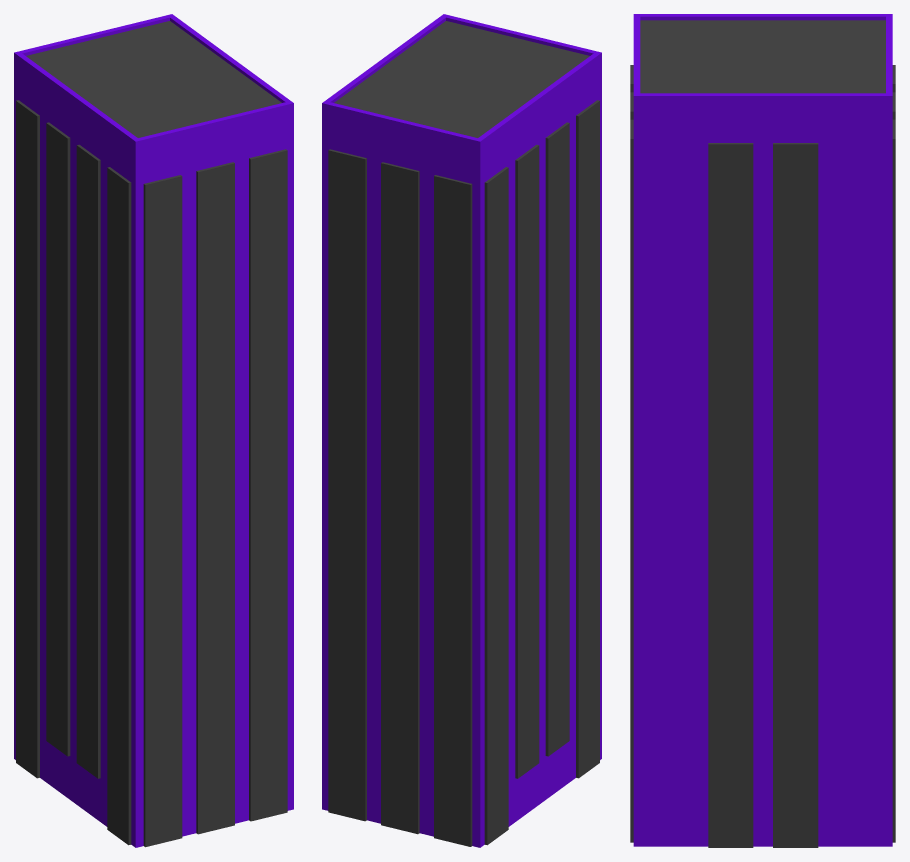
Rendered from Building02.fbx.
3 renders of one model, left to right at view 1: azimuth 30°, elevation 25°; view 2: azimuth 150°, elevation 25°; view 3: azimuth 270°, elevation 25°, orthographic. The views are drawn at different scales.
Parts seen in each view (by area): view 1: Building02; view 2: Building02; view 3: Building02.
Part boxes in pixels (box(x1,y1,x2,y2)): Building02: box(14, 14, 293, 847); Building02: box(322, 14, 601, 847); Building02: box(630, 14, 895, 847).
Bounding box in the file's own units: 1549 × 6400 × 2052.
